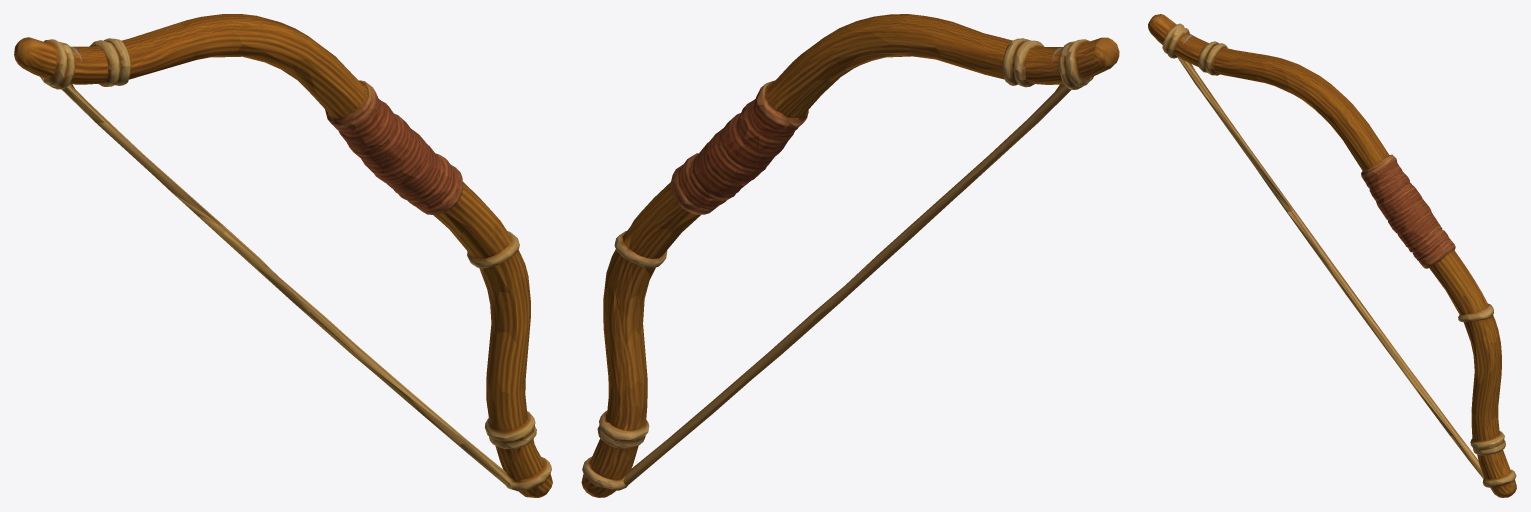
The model's file is Bow.glb.
3 renders of one model, left to right at view 1: azimuth 30°, elevation 25°; view 2: azimuth 150°, elevation 25°; view 3: azimuth 330°, elevation 25°, orthographic. The views are drawn at different scales.
Visible parts, largest first — view 1: Mesh_0; view 2: Mesh_0; view 3: Mesh_0.
Boxes of the visible parts, x1,y1,x2,y2 form: Mesh_0: [14, 14, 552, 497]; Mesh_0: [581, 14, 1119, 497]; Mesh_0: [1148, 14, 1516, 497].
Bounding box in the file's own units: 1.83 × 1.9 × 0.1986.
Materials: 1 (1 with a texture image).
